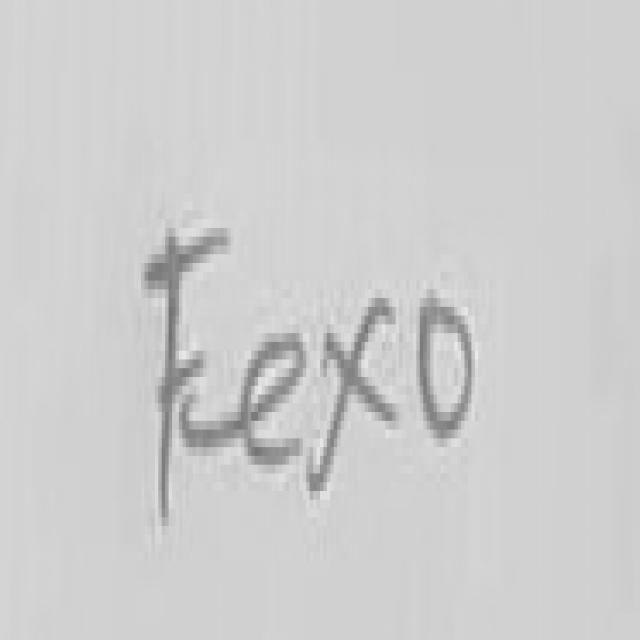F: (145, 228, 231, 522)
e: (241, 333, 306, 465)
o: (423, 307, 475, 438)
x: (310, 298, 396, 491)
